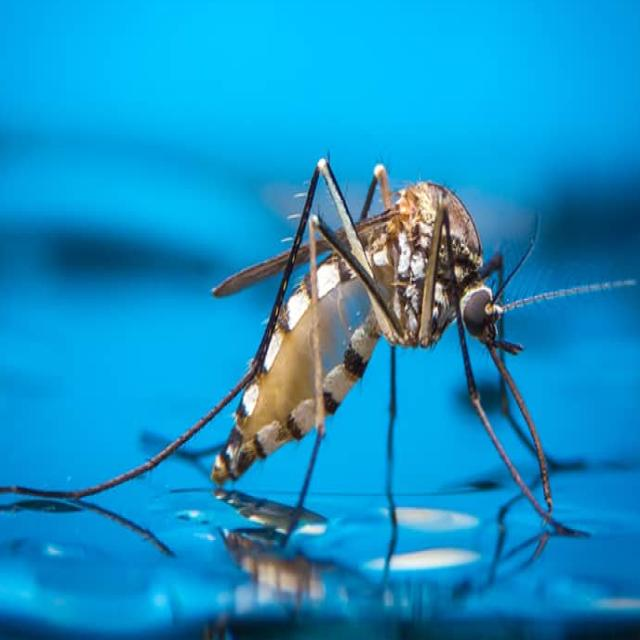Mosquito: (142, 64, 582, 616)
